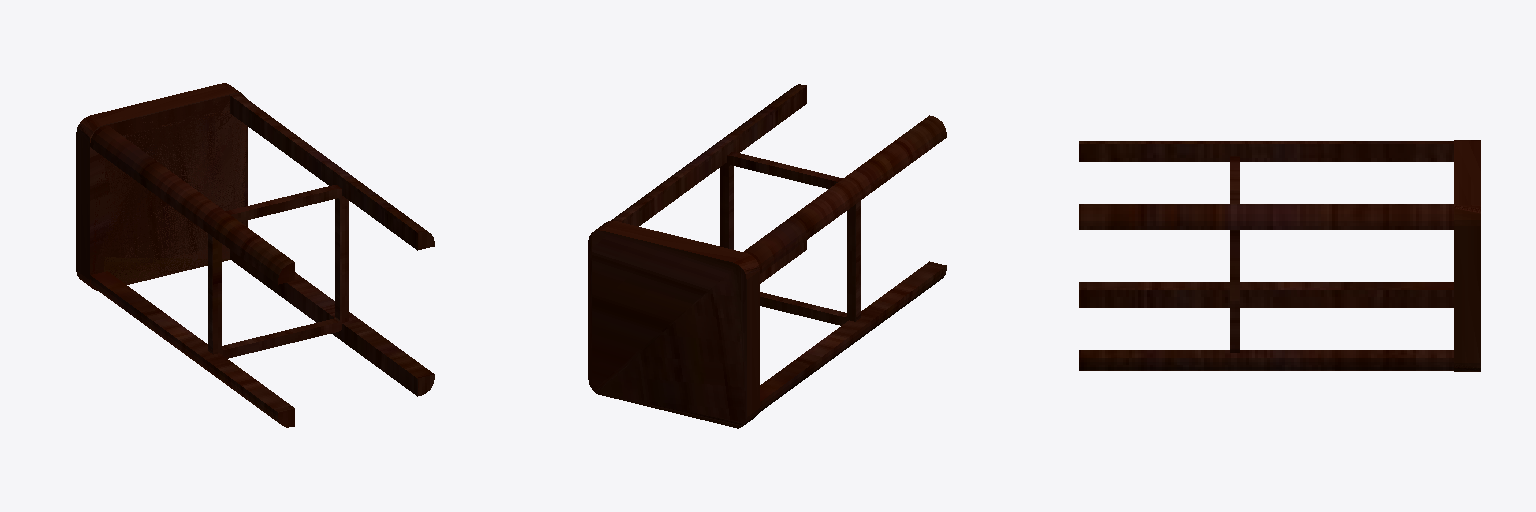
3 views of the same model, side by side, from view 1: azimuth 30°, elevation 25°; view 2: azimuth 150°, elevation 25°; view 3: azimuth 270°, elevation 25° (orthographic).
Parts seen in each view (by area): view 1: object_1; view 2: object_1; view 3: object_1.
Boxes of the visible parts, x1,y1,x2,y2 form: object_1: [76, 83, 434, 427]; object_1: [588, 84, 946, 428]; object_1: [1079, 140, 1480, 371].
Size of the model in its own units: 0.3492 by 0.3492 by 0.7668.
1 materials, 1 textured.